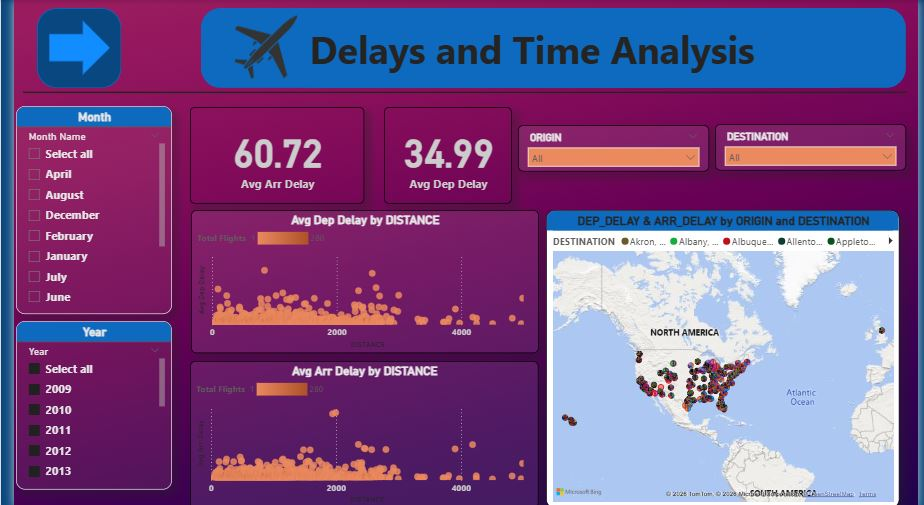

This screenshot's page, from the dashboard's own definition file:
{"tool":"powerbi","page":{"name":"Delays and Time Analysis","canvas":[1280,720],"ordinal":1},"visuals":[{"type":"shape","box":[265.4,10.9,998.9,113.4],"z":0},{"type":"textbox","box":[413.9,28.3,756.9,96.4],"z":1000},{"type":"shape","box":[12.3,124.9,1252.8,12.3],"z":2000},{"type":"shape","box":[32.6,10.9,119.4,113.4],"z":3000},{"type":"card","fields":{"Values":["flights_data.Avg Arr Delay"]},"box":[249.7,152.3,247,137.2],"z":4000},{"type":"card","fields":{"Values":["flights_data.Avg Dep Delay"]},"box":[524.2,152.3,181.1,137.2],"z":5000},{"type":"slicer","fields":{"Values":["flights_data.DESTINATION"]},"box":[993.8,176.2,271.2,66.2],"z":6000},{"type":"slicer","title":"Month","fields":{"Values":["flights_data.Month Name"]},"box":[2.7,149.6,220.9,295],"z":7000},{"type":"slicer","title":"Year","fields":{"Values":["flights_data.Year"]},"box":[2.5,455,221.2,238.8],"z":8000},{"type":"scatterChart","fields":{"X":["flights_data.DISTANCE"],"Y":["flights_data.Avg Dep Delay"]},"box":[251.2,297.5,492.5,202.5],"z":9000},{"type":"scatterChart","fields":{"X":["flights_data.DISTANCE"],"Y":["flights_data.Avg Arr Delay"]},"box":[250,511.2,493.8,208.8],"z":10000},{"type":"map","title":"DEP_DELAY & ARR_DELAY by ORIGIN and DESTINATION","fields":{"Category":["flights_data.ORIGIN"],"Series":["flights_data.DESTINATION"]},"box":[753.8,297.5,501.2,422.5],"z":11000},{"type":"shape","box":[49.5,27.7,86.9,78.4],"z":12000},{"type":"slicer","fields":{"Values":["flights_data.ORIGIN"]},"box":[714.2,177.3,271.4,66.4],"z":13000},{"type":"image","box":[289.1,17,136.1,99.2],"z":14000}]}

Visuals, with their boxes in screenshot pixels (x1, y1, x2, y2), scaled from the page's 1280x720 canvas onto the 924x505 screenshot:
shape: [192, 8, 913, 87]
textbox: [299, 20, 845, 87]
shape: [9, 88, 913, 96]
shape: [24, 8, 110, 87]
card - flights_data.Avg Arr Delay: [180, 107, 359, 203]
card - flights_data.Avg Dep Delay: [378, 107, 509, 203]
slicer - flights_data.DESTINATION: [717, 124, 913, 170]
"Month" slicer: [2, 105, 161, 312]
"Year" slicer: [2, 319, 161, 487]
scatterChart - flights_data.DISTANCE x flights_data.Avg Dep Delay: [181, 209, 537, 351]
scatterChart - flights_data.DISTANCE x flights_data.Avg Arr Delay: [180, 359, 537, 504]
"DEP_DELAY & ARR_DELAY by ORIGIN and DESTINATION" map: [544, 209, 906, 504]
shape: [36, 19, 98, 74]
slicer - flights_data.ORIGIN: [516, 124, 711, 171]
image: [209, 12, 307, 82]
